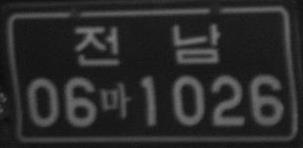0: (25, 76, 61, 129), (171, 73, 206, 127)
1: (135, 74, 166, 127)
2: (210, 72, 247, 128)
6: (248, 72, 286, 128), (62, 74, 99, 130)
마: (99, 80, 132, 120)
전남_D: (71, 20, 224, 68)
